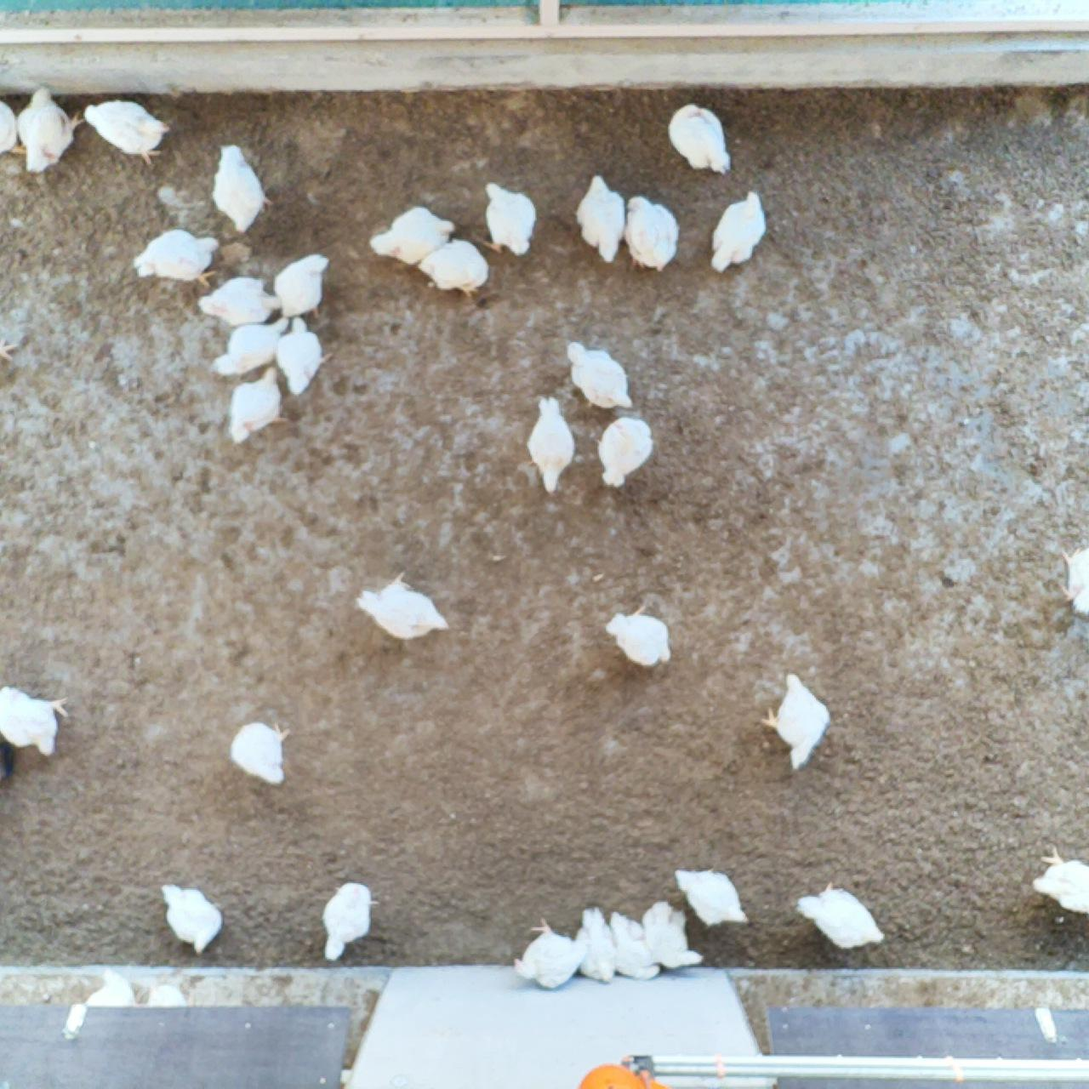chicken: (758, 665, 838, 773), (80, 86, 176, 171), (353, 568, 456, 647), (795, 877, 890, 956), (14, 85, 88, 176), (208, 139, 275, 238), (508, 914, 591, 992), (705, 188, 773, 282), (661, 98, 736, 181), (521, 392, 580, 497), (130, 226, 223, 292), (154, 877, 227, 960), (205, 313, 293, 381), (367, 202, 457, 268), (315, 878, 381, 968), (470, 179, 542, 261), (221, 364, 291, 448), (618, 191, 685, 276), (670, 863, 753, 931), (0, 684, 72, 761), (563, 338, 637, 411), (574, 171, 629, 268), (602, 598, 674, 672), (274, 314, 336, 398), (228, 715, 293, 791), (593, 412, 655, 490), (640, 897, 705, 971), (415, 238, 492, 300), (196, 272, 281, 327), (606, 907, 667, 982), (1030, 841, 1089, 917), (573, 902, 623, 984), (274, 251, 332, 321), (1050, 541, 1089, 618), (0, 97, 31, 159)
